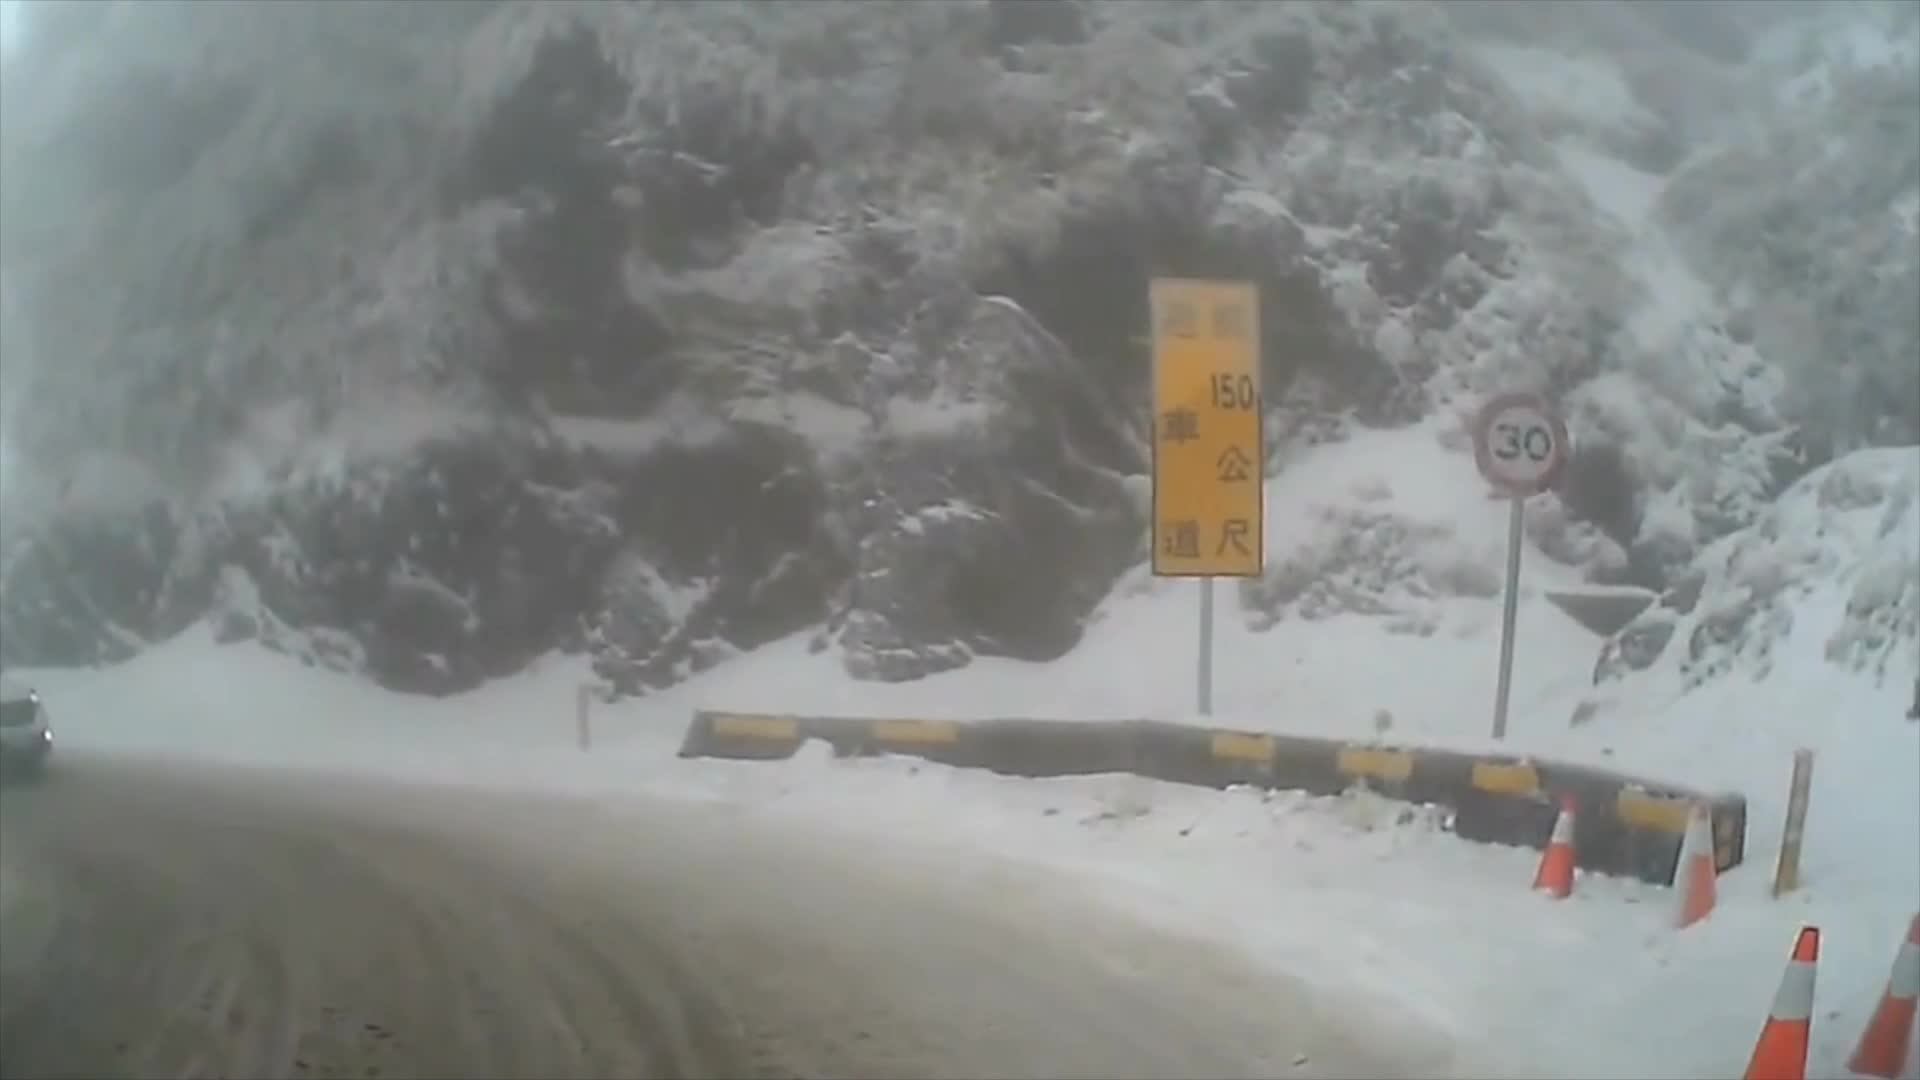vehicle: (0, 673, 51, 783)
